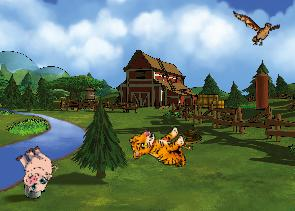eagle: (233, 10, 280, 46)
pig: (8, 141, 62, 196)
tiger: (127, 120, 191, 178)
